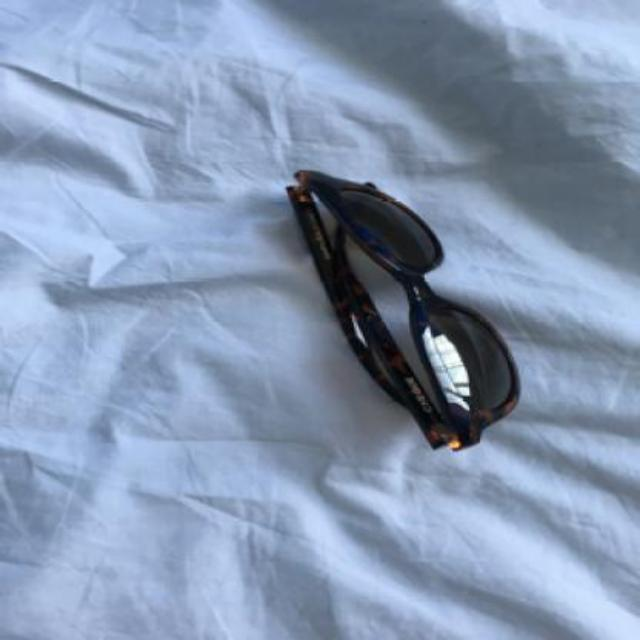glasses: (283, 169, 523, 449)
